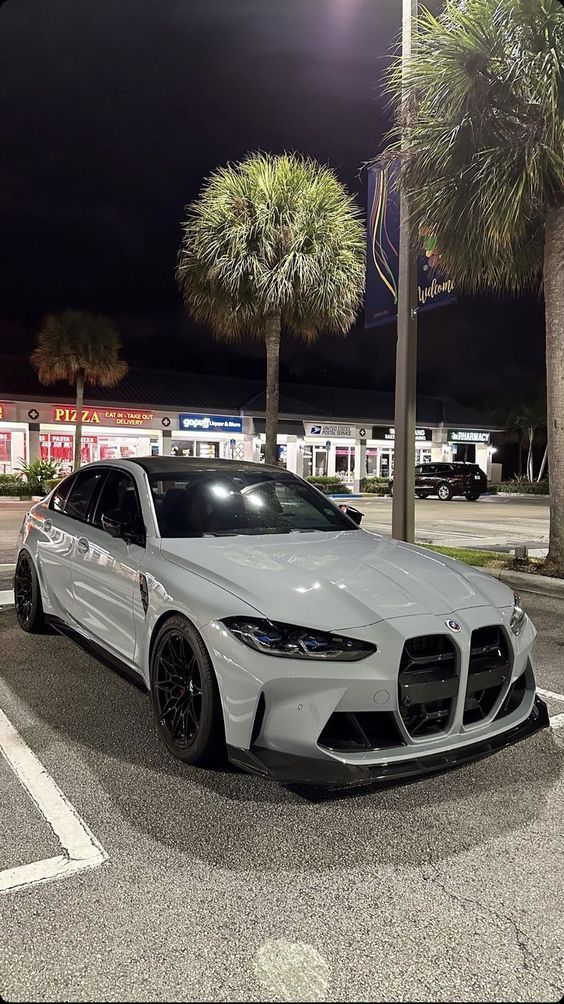car: (10, 444, 540, 786)
